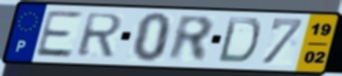0: (129, 11, 174, 64)
7: (261, 16, 306, 67)
D: (215, 16, 263, 66)
E: (32, 9, 85, 59)
R: (166, 13, 216, 64), (75, 12, 125, 59)
